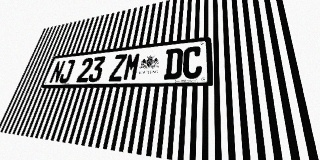2: (76, 57, 94, 83)
3: (87, 56, 106, 82)
C: (182, 46, 202, 79)
D: (163, 48, 183, 80)
J: (58, 59, 76, 83)
M: (122, 52, 142, 81)
N: (48, 60, 66, 83)
Z: (108, 54, 127, 81)
